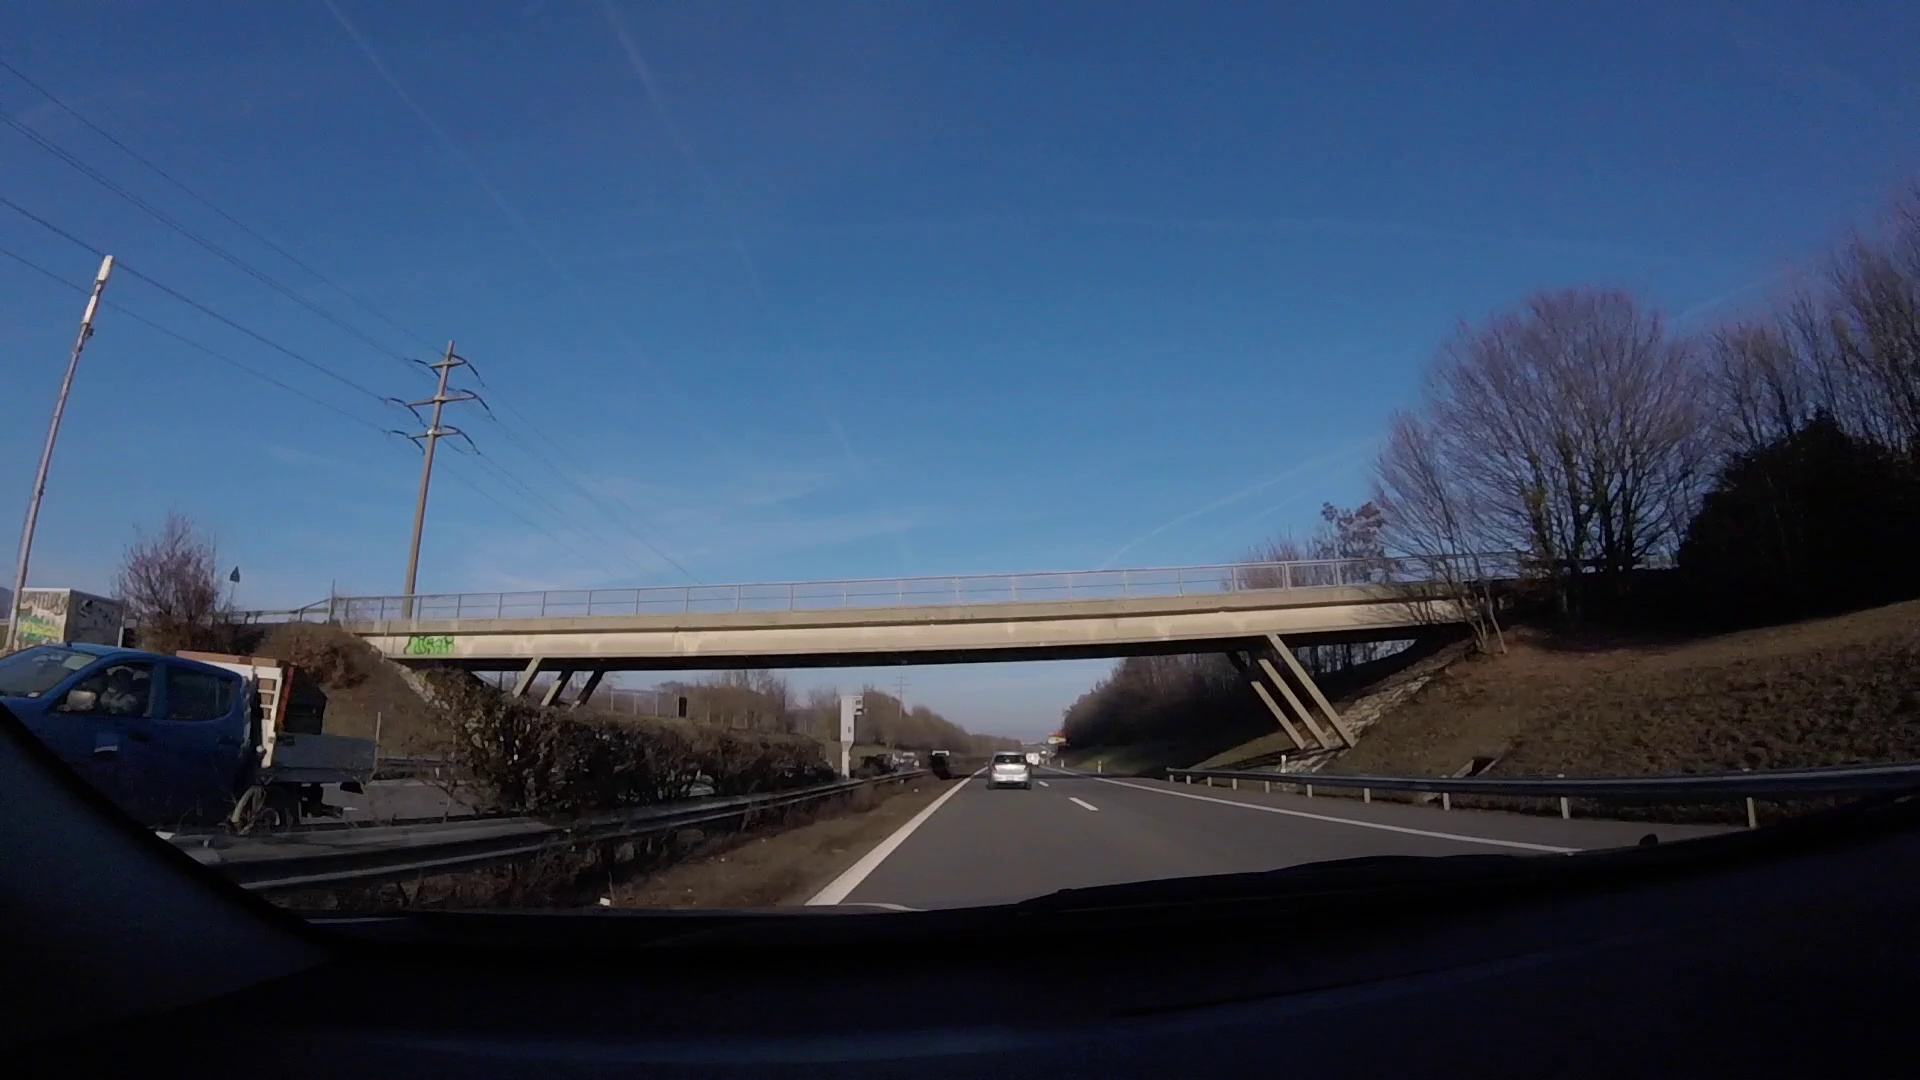radar: (837, 694, 869, 782)
